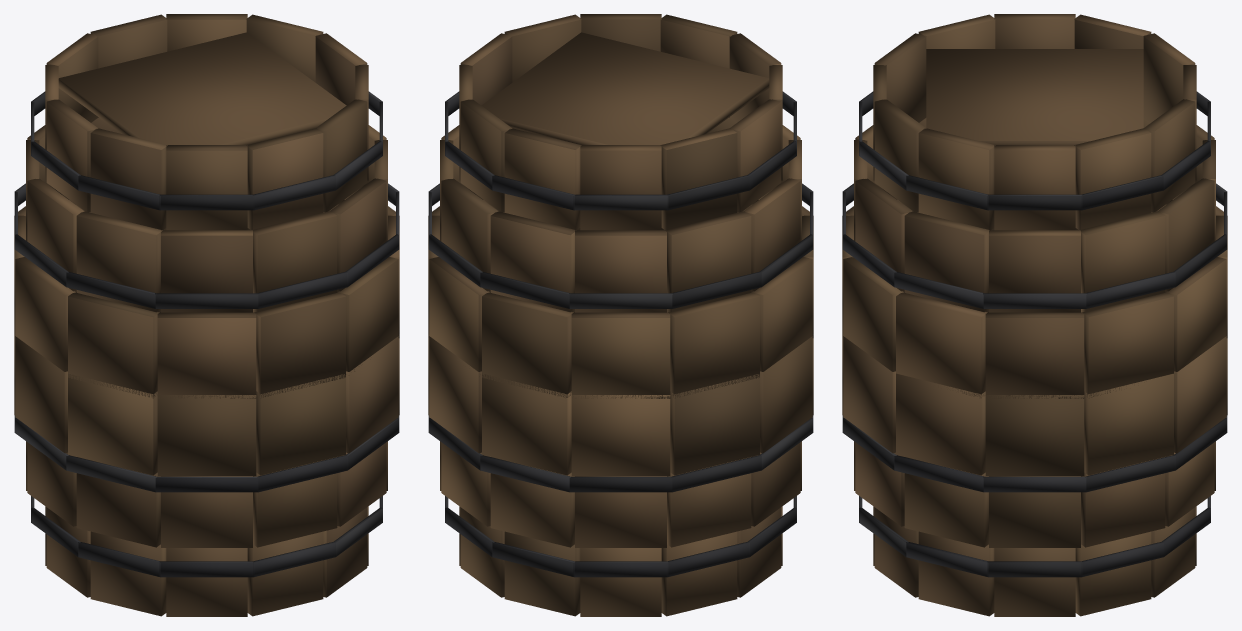
The model's file is botte.glb.
3 views of the same model, side by side, from view 1: azimuth 30°, elevation 25°; view 2: azimuth 150°, elevation 25°; view 3: azimuth 270°, elevation 25° (orthographic).
Visible parts, largest first — view 1: botte; view 2: botte; view 3: botte.
Part boxes in pixels (x1,y1,x2,y2): botte: [14, 14, 399, 616]; botte: [428, 14, 813, 616]; botte: [842, 14, 1227, 616].
Bounding box in the file's own units: 0.724 × 0.9663 × 0.724.
